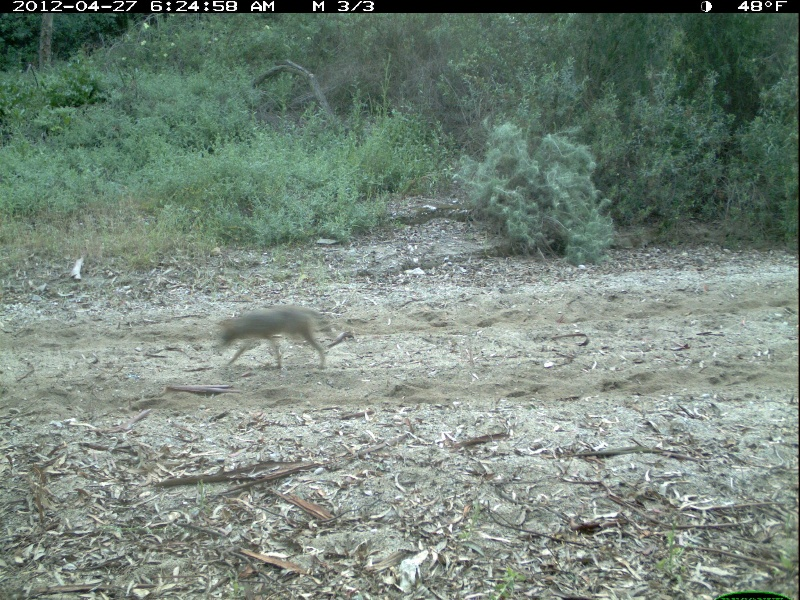cat: (211, 306, 340, 377)
